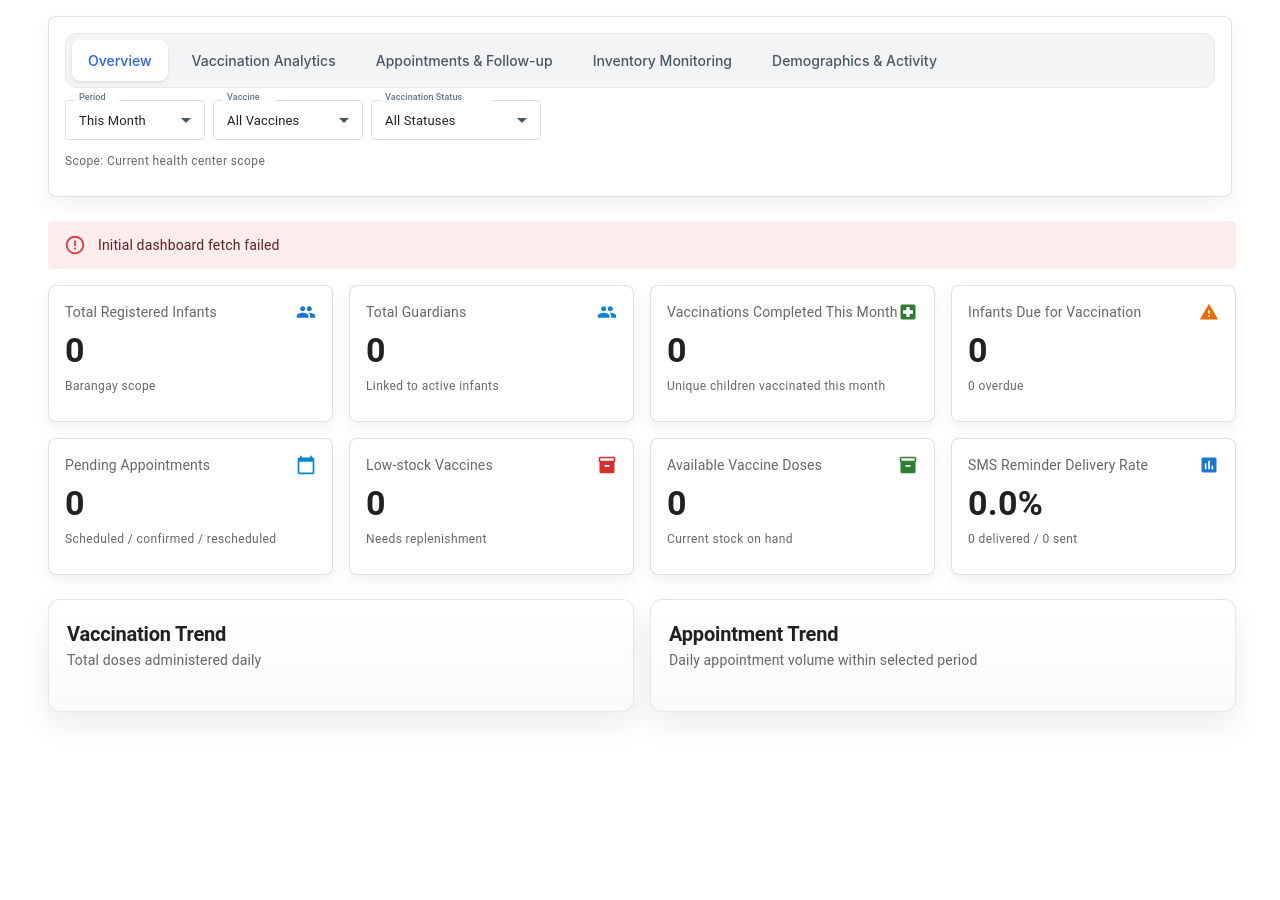
Test: Analytics dashboard rendering and filter stability › keeps a full gender card with explicit 0% fallback when demographics request fails
The width and height of the screenshot is (1280, 900).
Expected: the text "Initial dashboard fetch failed" is shown, [98, 237, 280, 253]
Click the tab "Demographics & Activity": (854, 60) [756, 40, 953, 81]
(page scrolled)
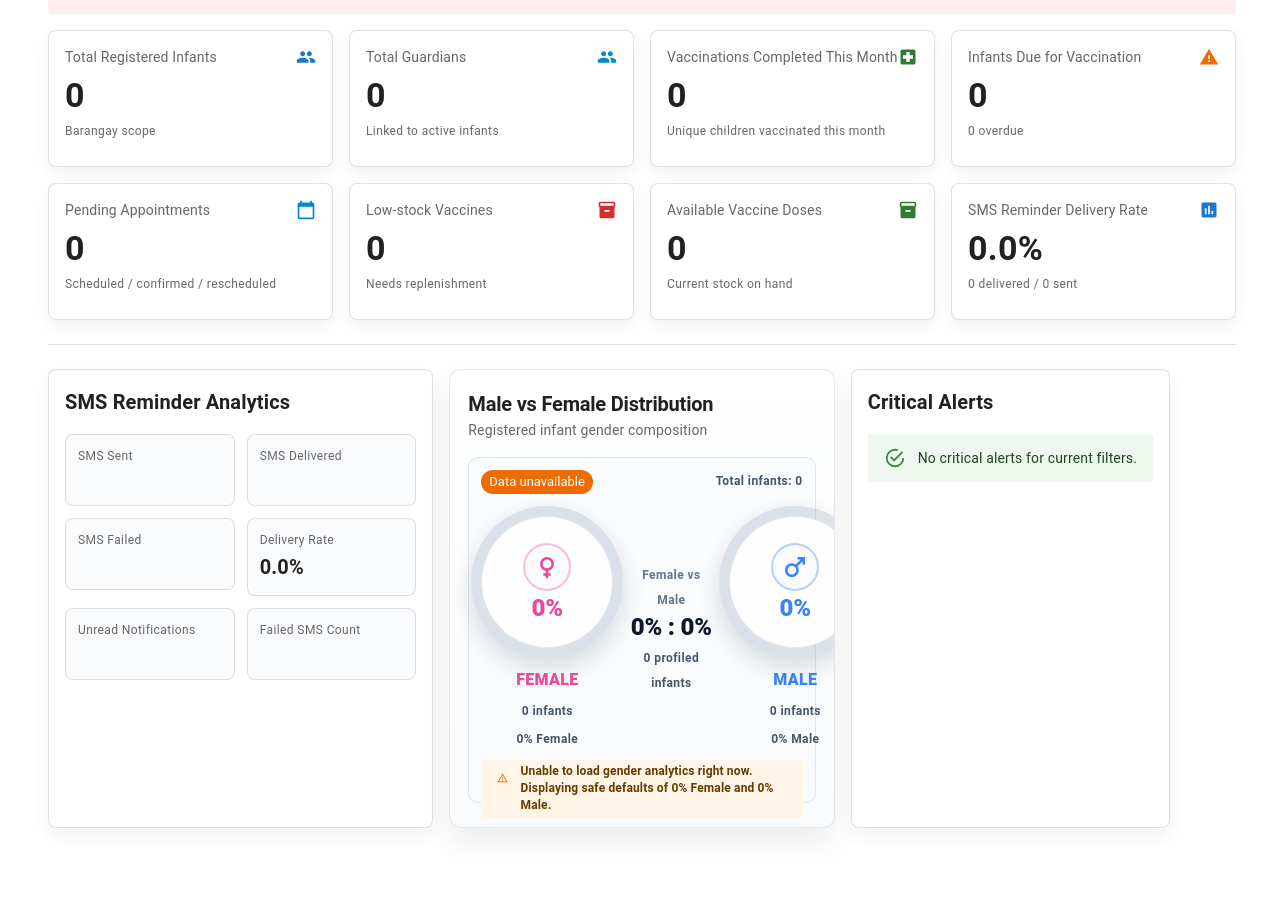
Expected: the heading "Male vs Female Distribution" is shown, [468, 392, 713, 416]
Expected: the text "0% Female" is shown, [516, 730, 578, 750]
Expected: the text "0% Male" is shown, [771, 730, 820, 750]
